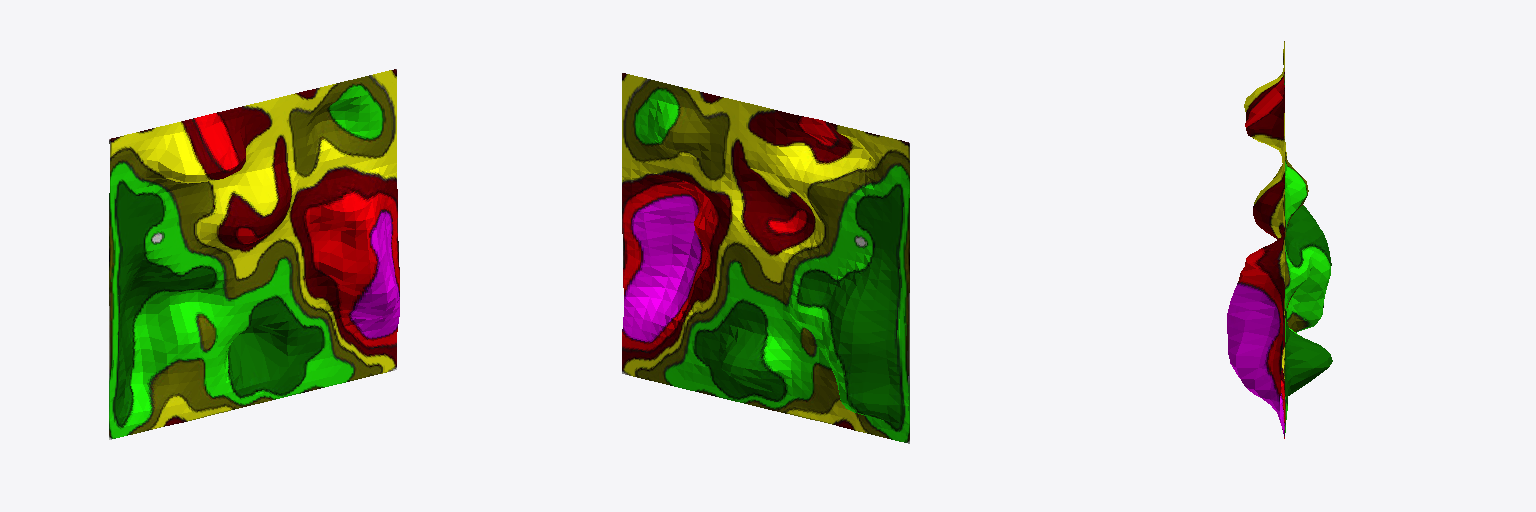
3 renders of one model, left to right at view 1: azimuth 30°, elevation 25°; view 2: azimuth 150°, elevation 25°; view 3: azimuth 270°, elevation 25°, orthographic.
Visible parts, largest first — view 1: Plane; view 2: Plane; view 3: Plane.
Boxes of the visible parts, x1,y1,x2,y2 form: Plane: [109, 69, 399, 439]; Plane: [622, 73, 909, 443]; Plane: [1227, 41, 1332, 438].
Bounding box in the file's own units: 2 × 2 × 0.6386.
1 materials, 1 textured.